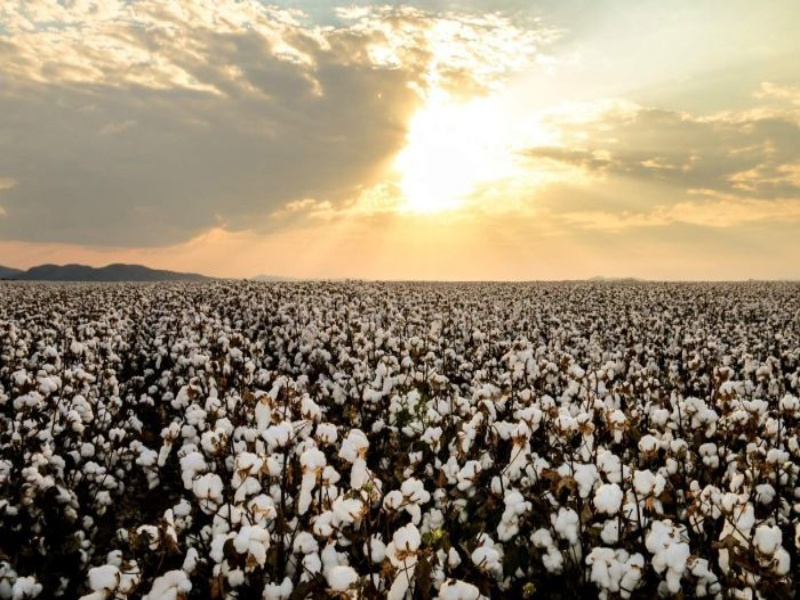cotton: (1, 325, 797, 596)
